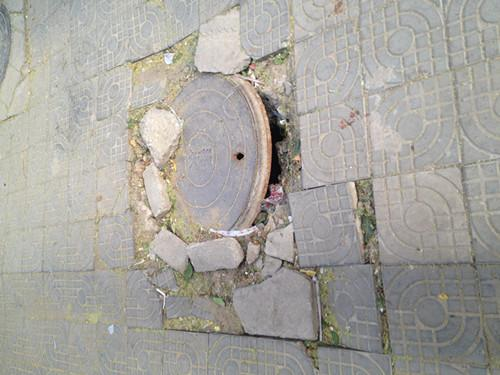circle: (125, 48, 321, 344)
